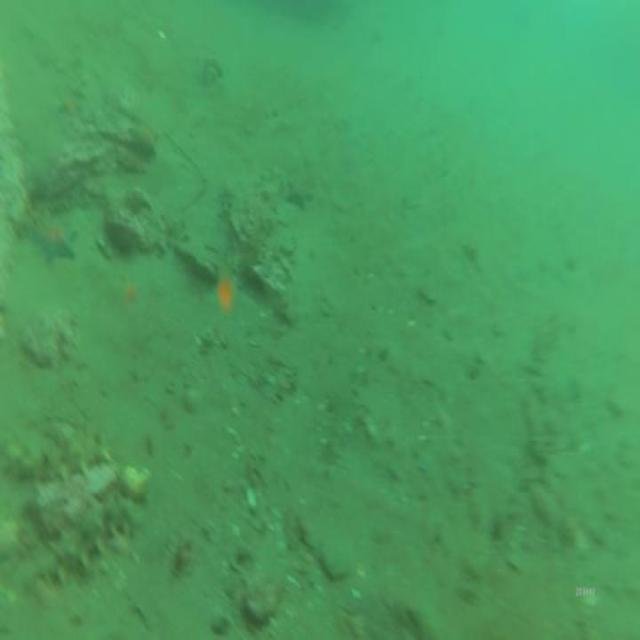holothurian: (18, 499, 140, 582), (3, 422, 105, 477)
starfish: (29, 210, 79, 267), (282, 174, 314, 213), (131, 120, 160, 158)
